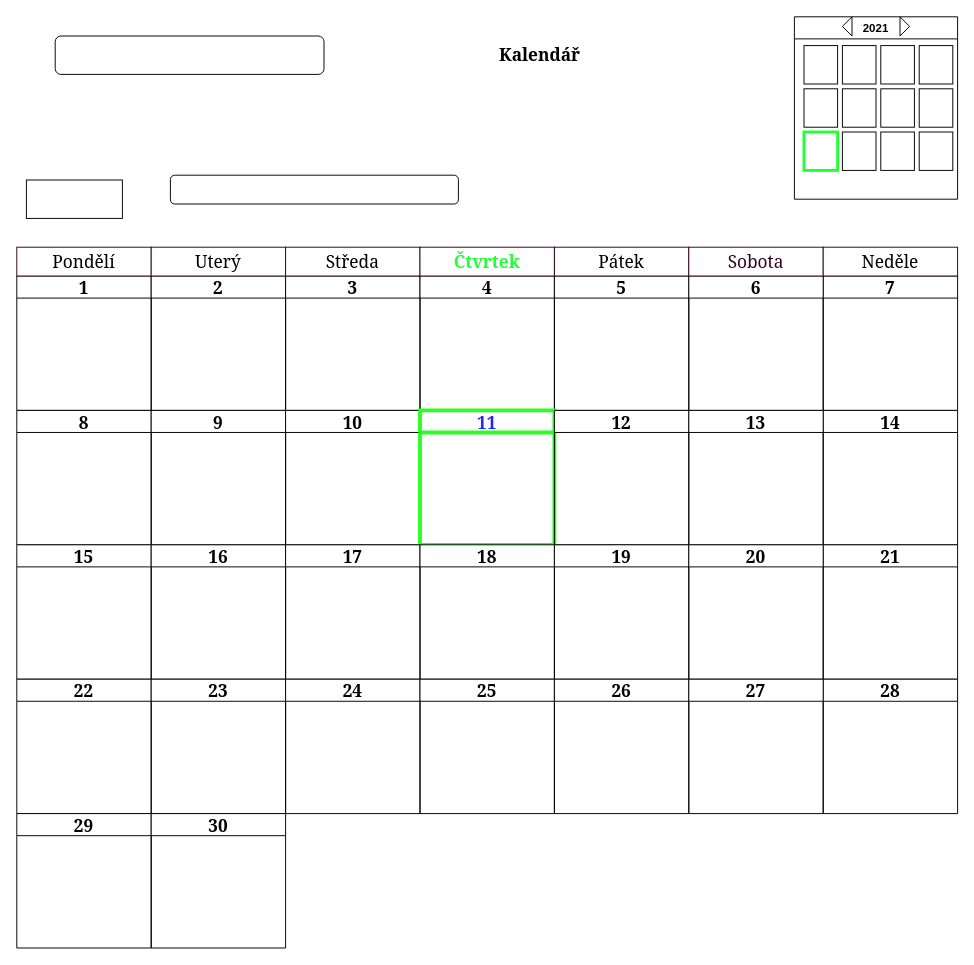
Image size: 974x965. Some labels were removed from this diagram. Here are the shapes that lost their labels. From the top down, the centre of each, then its label:
At [189,54]: "SEARCH".
At [73,198]: "Září".
At [313,189]: "Dnes je 11.9.2025".
